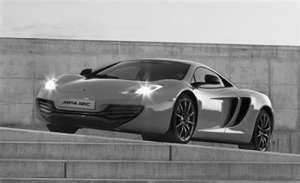car: (35, 57, 275, 153)
